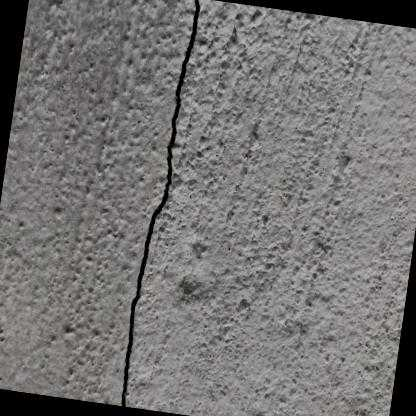crack: (120, 0, 199, 406)
